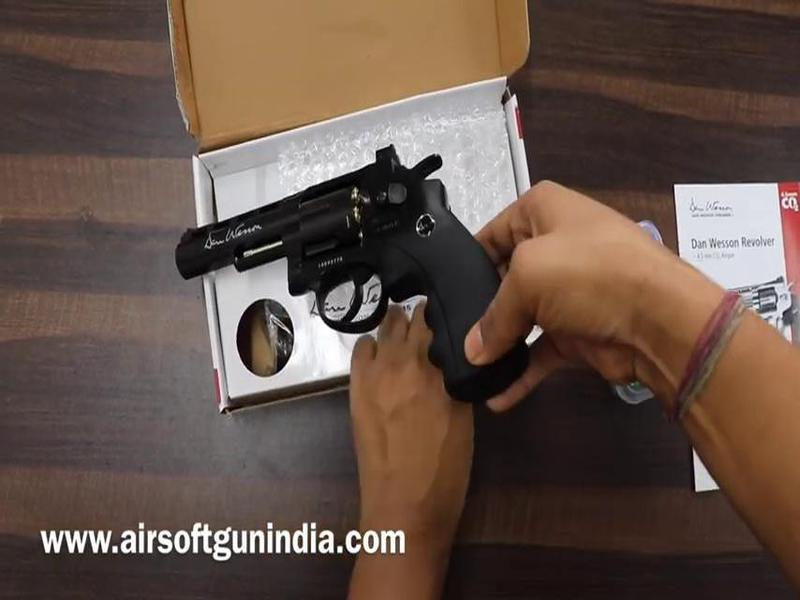Revolver: (163, 164, 497, 334)
